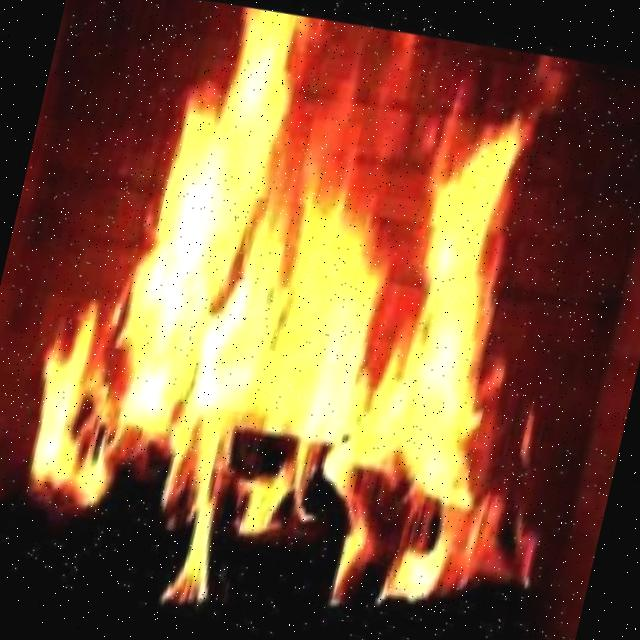fire: (64, 13, 538, 630)
